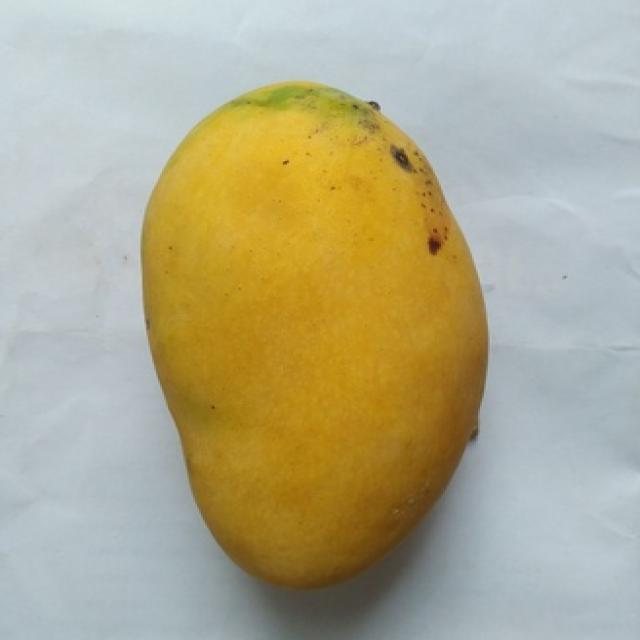Mango: (142, 83, 486, 586)
